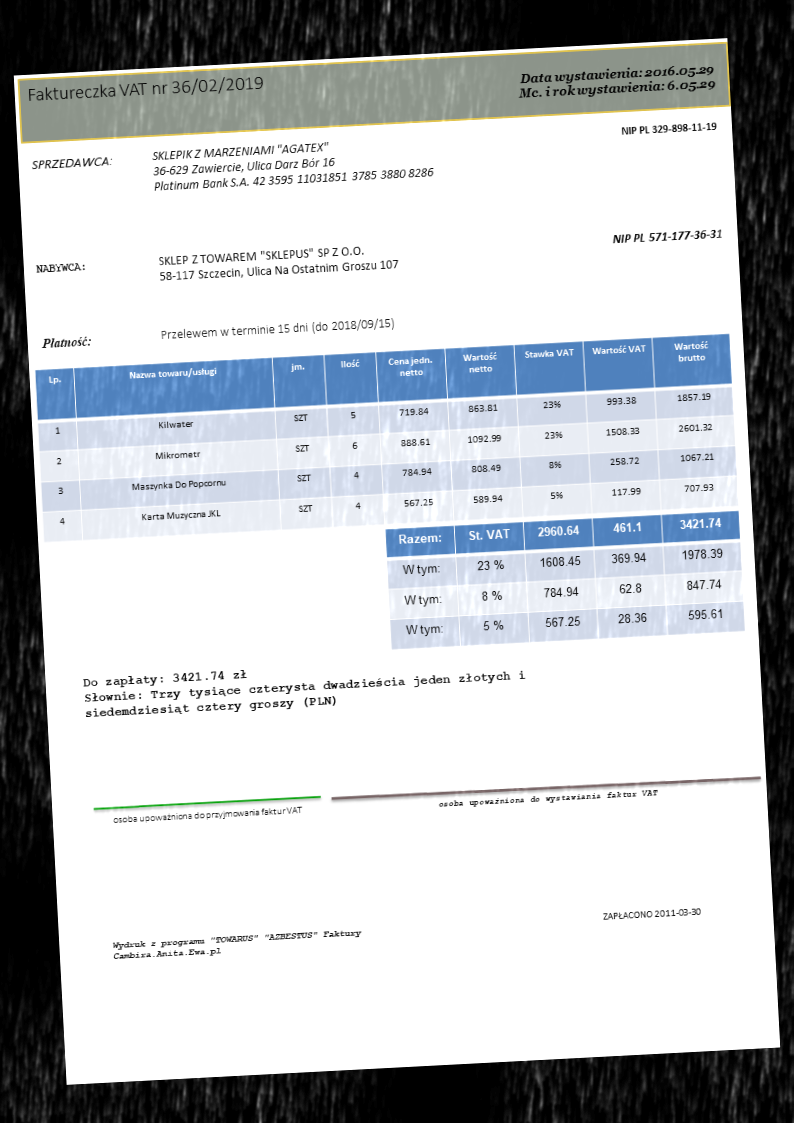Table: (33, 333, 738, 545), (384, 510, 745, 651)
TextBox: (79, 651, 531, 723), (147, 132, 437, 199), (155, 241, 401, 285), (109, 927, 367, 965), (514, 59, 719, 105), (23, 70, 266, 106), (158, 316, 397, 344), (436, 786, 660, 810), (109, 804, 304, 827), (610, 226, 724, 247), (617, 117, 717, 140), (27, 151, 114, 175), (600, 904, 704, 923), (32, 258, 87, 277), (39, 333, 93, 351)
